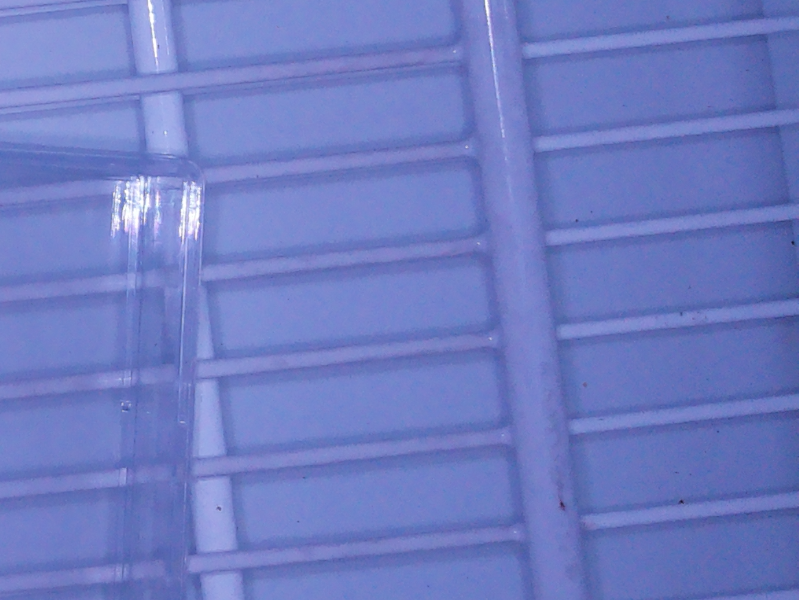plate: (1, 144, 211, 600)
